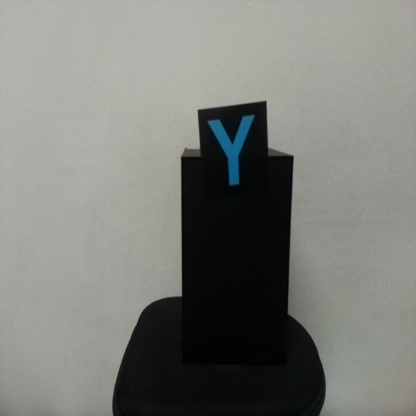id_14: (197, 110, 269, 198)
